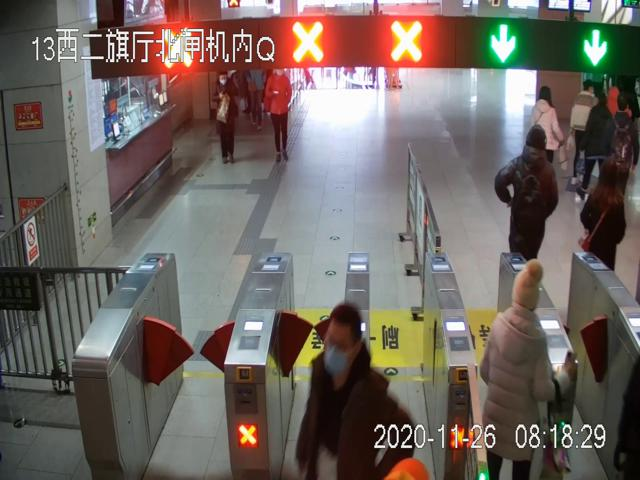person: (494, 124, 558, 266), (261, 65, 291, 162), (212, 72, 241, 166)
